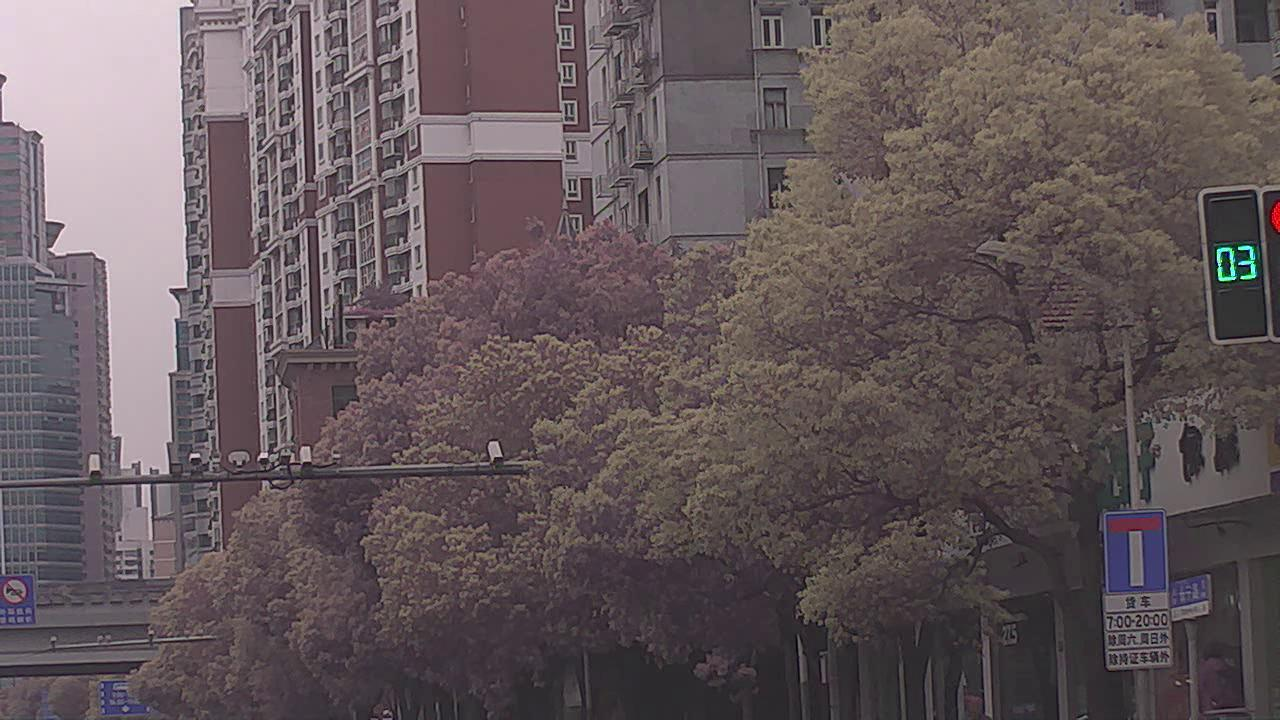traffic_light: (1199, 187, 1267, 344)
